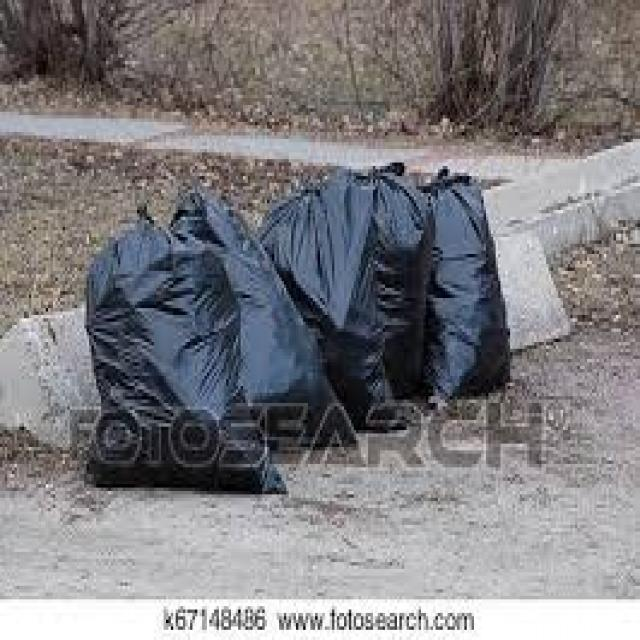plastic_bag: (85, 231, 251, 502), (266, 194, 386, 397), (429, 167, 511, 401), (369, 164, 437, 408)
